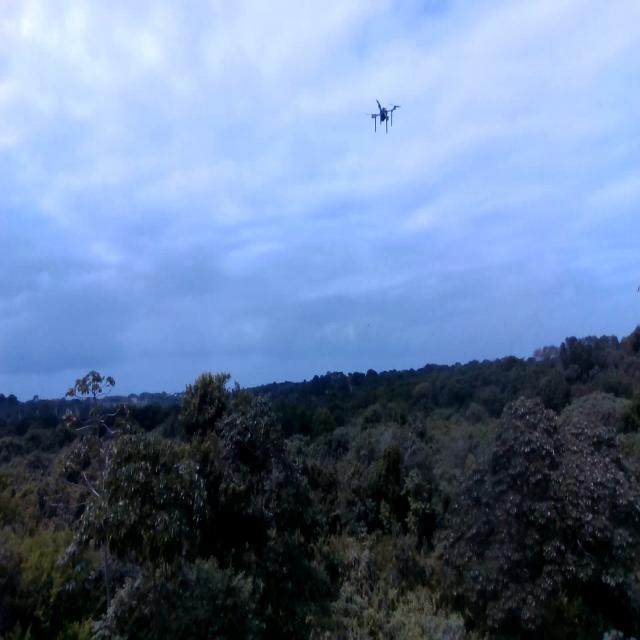-uav-: (363, 88, 408, 151)
